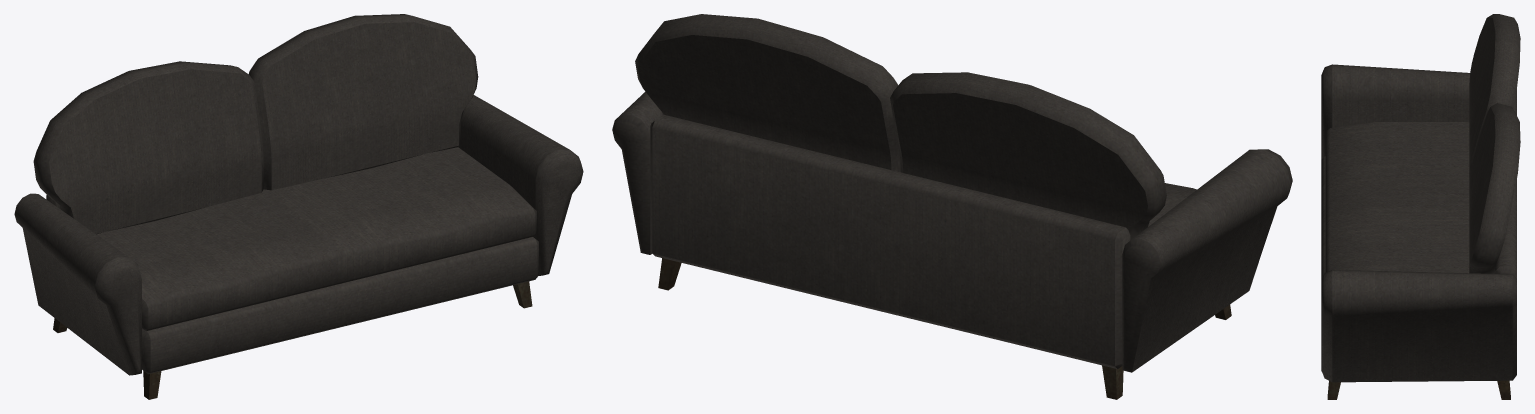
File: sofa_2_3.obj
The picture shows the model from 3 angles, left to right: view 1: azimuth 30°, elevation 25°; view 2: azimuth 150°, elevation 25°; view 3: azimuth 270°, elevation 25°; orthographic projection. The views are drawn at different scales.
Visible parts, largest first — view 1: sofa_2_3; view 2: sofa_2_3; view 3: sofa_2_3.
Boxes of the visible parts, left/top/right/bottom form: sofa_2_3: left=14, top=14, right=583, bottom=399; sofa_2_3: left=612, top=14, right=1292, bottom=399; sofa_2_3: left=1321, top=14, right=1520, bottom=399.
Size of the model in its own units: 2.47 by 1.17 by 0.9157.
